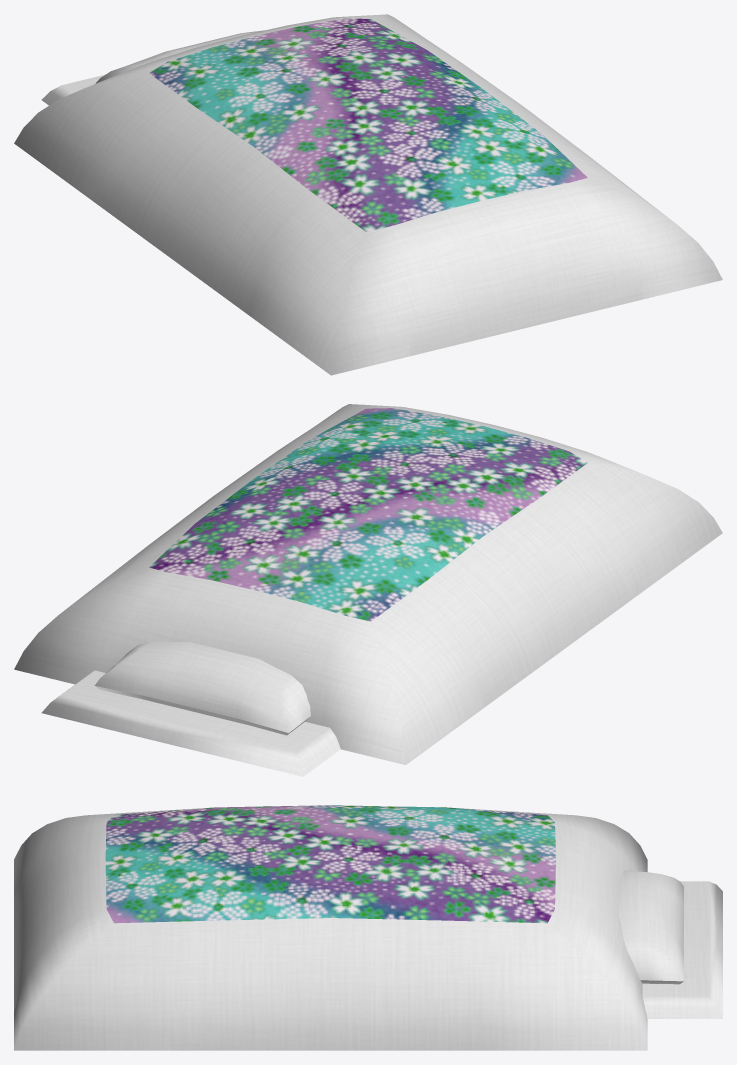
Rendered from 0721_futon_01.fbx.
3 views of the same model, one above another, from view 1: azimuth 30°, elevation 25°; view 2: azimuth 150°, elevation 25°; view 3: azimuth 270°, elevation 25° (orthographic).
Parts seen in each view (by area): view 1: Futon_InPlayer, Makura, Futon_flat; view 2: Futon_InPlayer, Makura, Futon_flat; view 3: Futon_InPlayer, Futon_flat, Makura.
Boxes of the visible parts, x1,y1,x2,y2 form: Futon_InPlayer: (14, 14, 722, 375); Makura: (95, 30, 264, 83); Futon_flat: (41, 74, 105, 105); Futon_InPlayer: (14, 404, 722, 764); Makura: (94, 641, 310, 735); Futon_flat: (41, 670, 340, 776); Futon_InPlayer: (14, 805, 647, 1050); Futon_flat: (642, 881, 722, 1018); Makura: (619, 870, 683, 984).
Size of the model in its own units: 150 by 235 by 39.71.
1 material, 1 textured.
